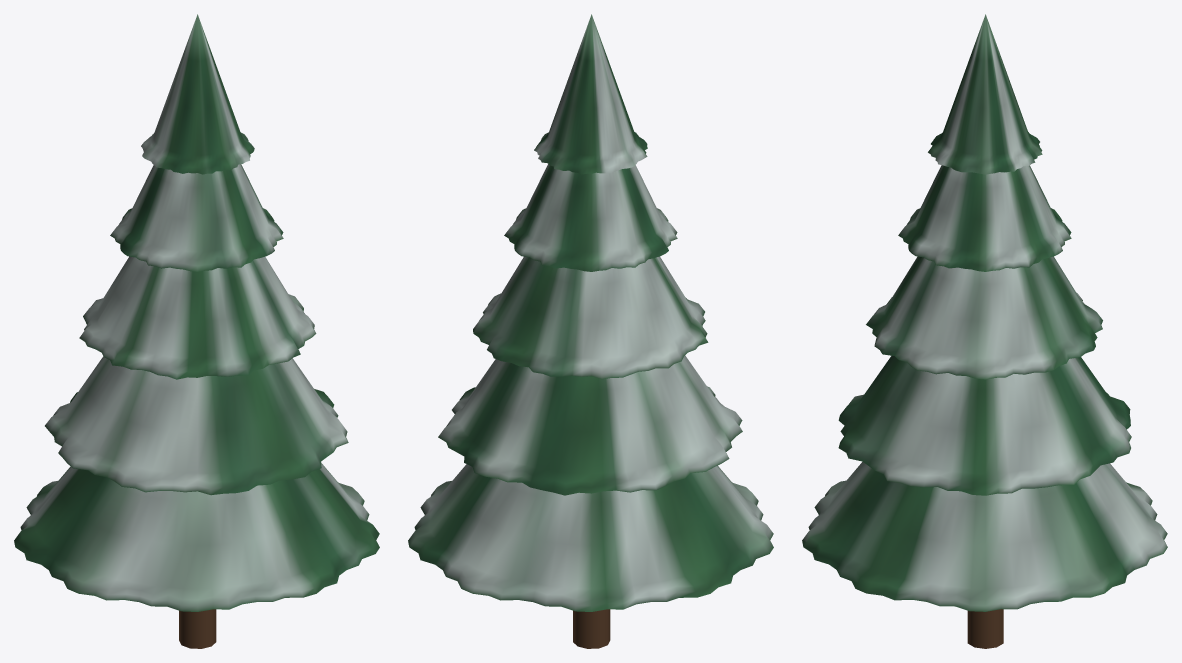
The model's file is Xmas_Fir.fbx.
3 renders of one model, left to right at view 1: azimuth 30°, elevation 25°; view 2: azimuth 150°, elevation 25°; view 3: azimuth 270°, elevation 25°, orthographic.
Visible parts, largest first — view 1: Xmas_Fir; view 2: Xmas_Fir; view 3: Xmas_Fir.
Part boxes in pixels (x1=…): Xmas_Fir: x1=14, y1=14, x2=379, y2=648; Xmas_Fir: x1=408, y1=14, x2=773, y2=648; Xmas_Fir: x1=802, y1=14, x2=1167, y2=648.
Size of the model in its own units: 19.38 by 36.8 by 19.46.
